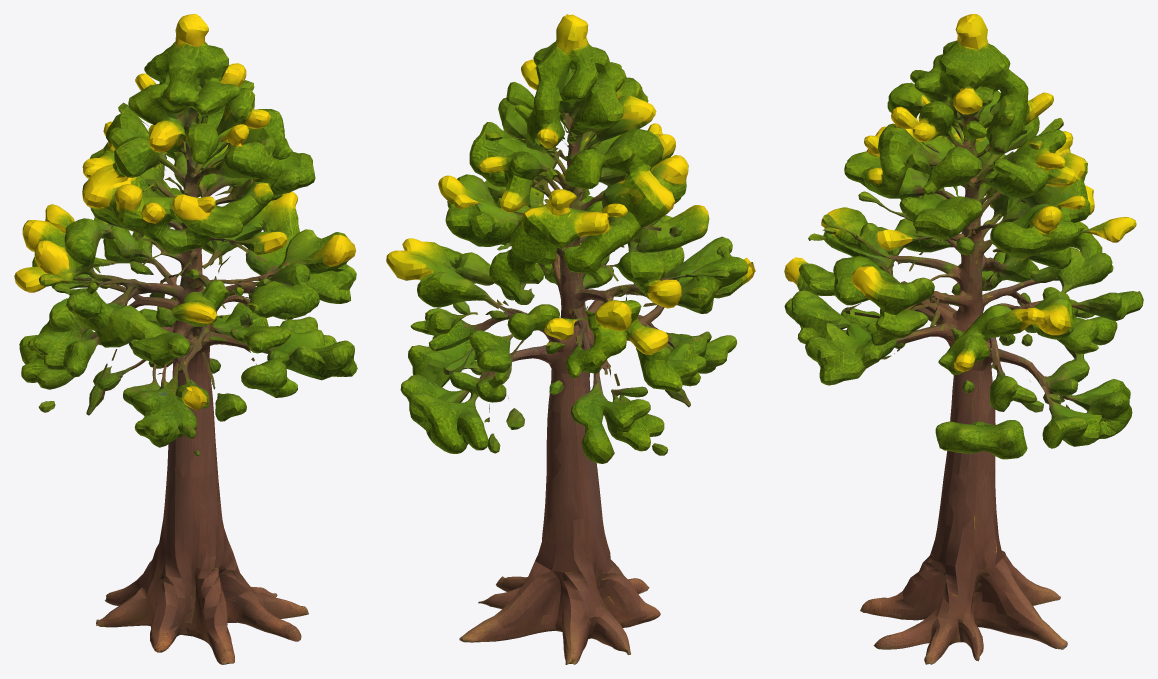
Rendered from veg_conifer_redcedar_01.glb.
The picture shows the model from 3 angles, left to right: view 1: azimuth 30°, elevation 25°; view 2: azimuth 150°, elevation 25°; view 3: azimuth 270°, elevation 25°; orthographic projection.
Visible parts, largest first — view 1: veg_conifer_redcedar_01; view 2: veg_conifer_redcedar_01; view 3: veg_conifer_redcedar_01.
Part boxes in pixels (x1,y1,x2,y2): veg_conifer_redcedar_01: [14, 14, 357, 664]; veg_conifer_redcedar_01: [386, 14, 755, 664]; veg_conifer_redcedar_01: [784, 14, 1143, 664].
Size of the model in its own units: 11.55 by 22.25 by 12.
1 material, 1 textured.
